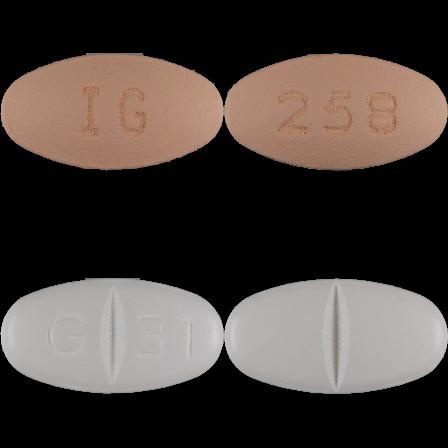45865-351: (0, 0, 224, 224)
